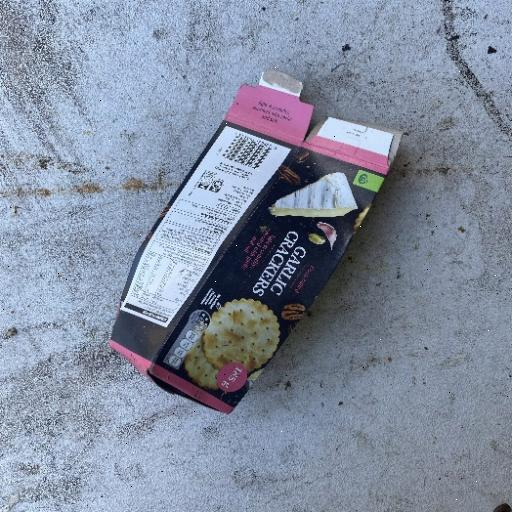Cardboard: (106, 70, 406, 416)
